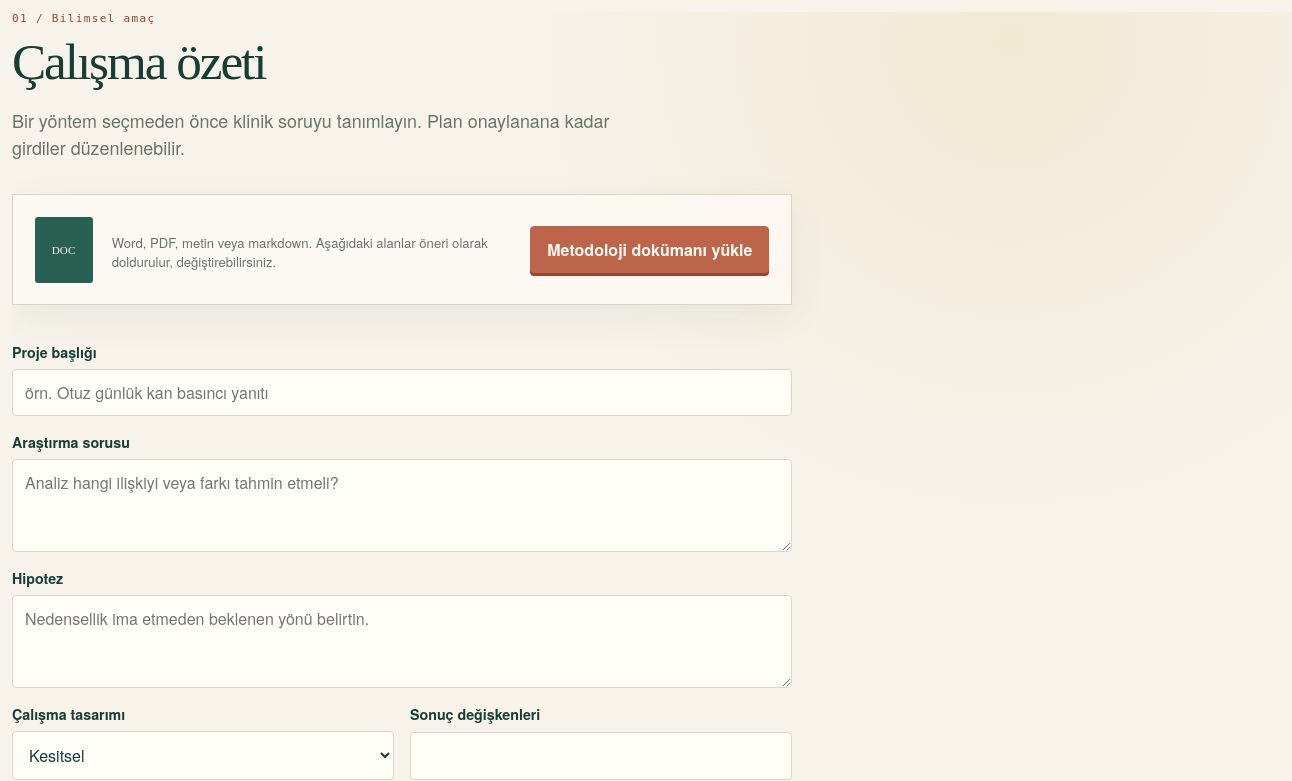
warns when the document was truncated
The width and height of the screenshot is (1292, 781).
Click the button "Metodoloji dokümanı yükle" at [650, 250], box [530,226,769,273]
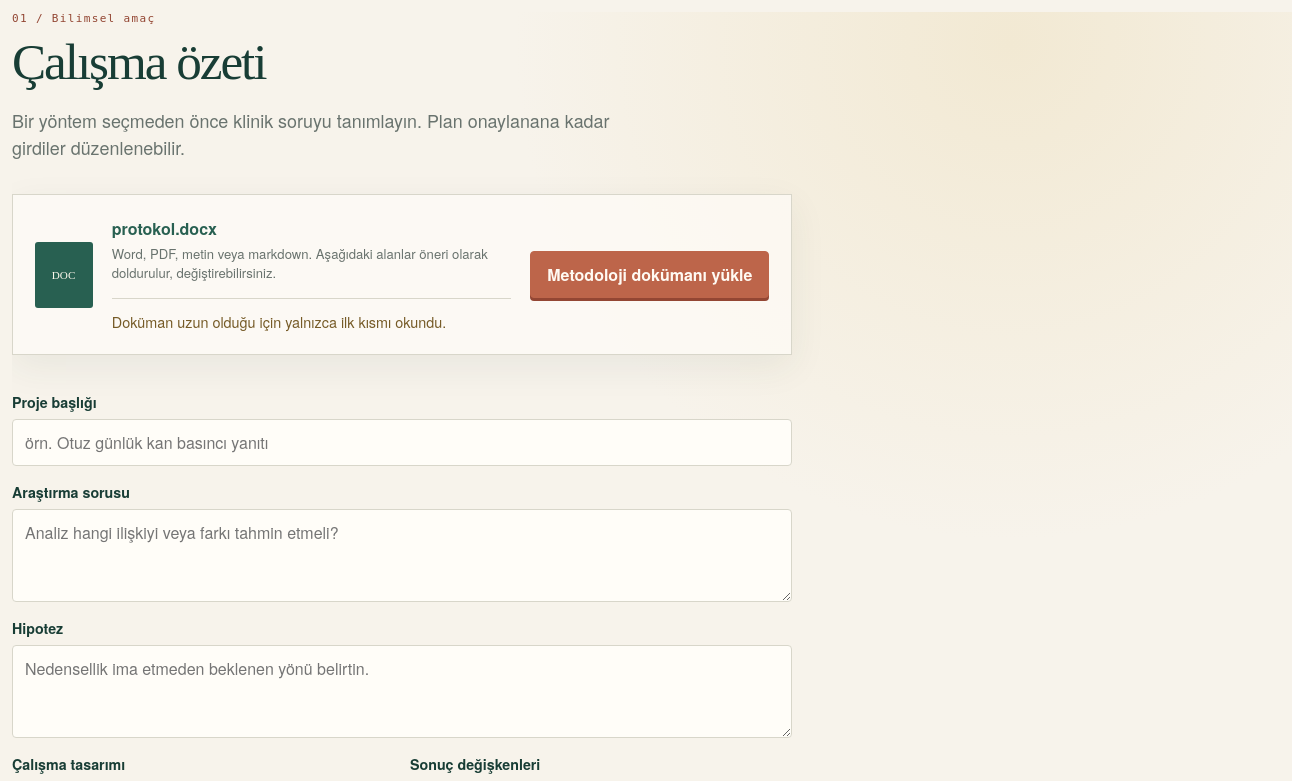
Now the text "Doküman uzun olduğu için yalnızca ilk kısmı okundu." is shown, box [112,298,511,332]
